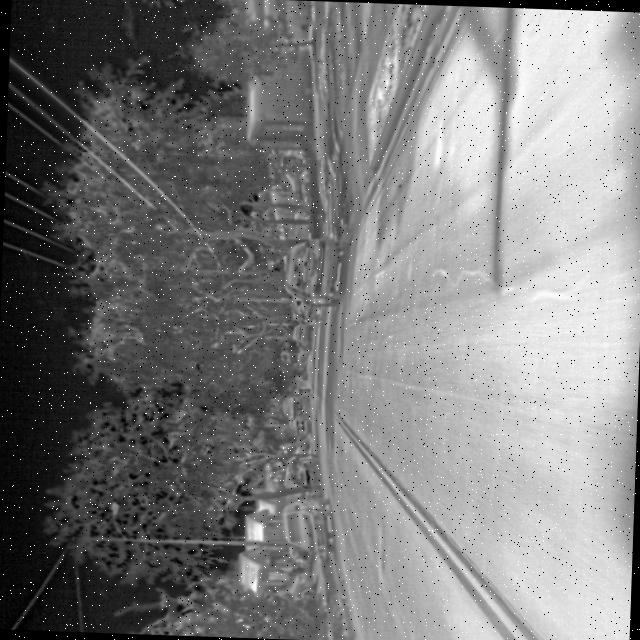Vehicle: (280, 234, 347, 309), (278, 494, 337, 558), (286, 452, 325, 491), (290, 322, 315, 346)
